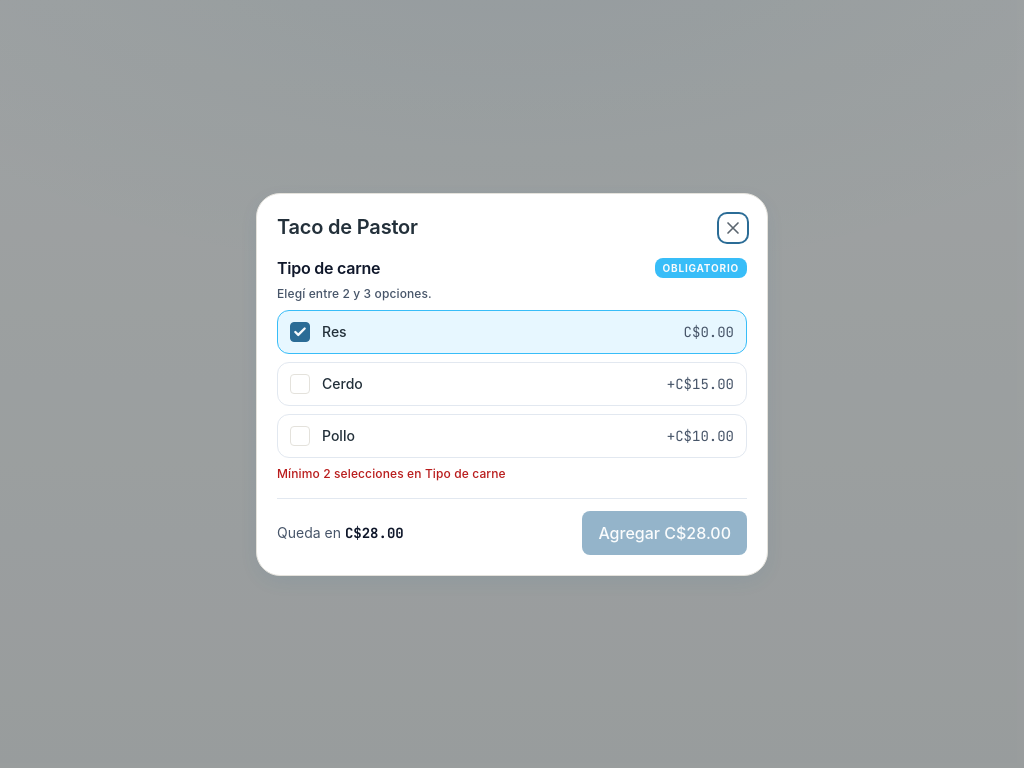
PosModifierDialog › con un mínimo sin cumplir muestra el error del dominio y no deja agregar
This screenshot has width=1024, height=768.
Click the checkbox labelled "Cerdo" at (300, 384), box x1=290 y1=374 x2=310 y2=394
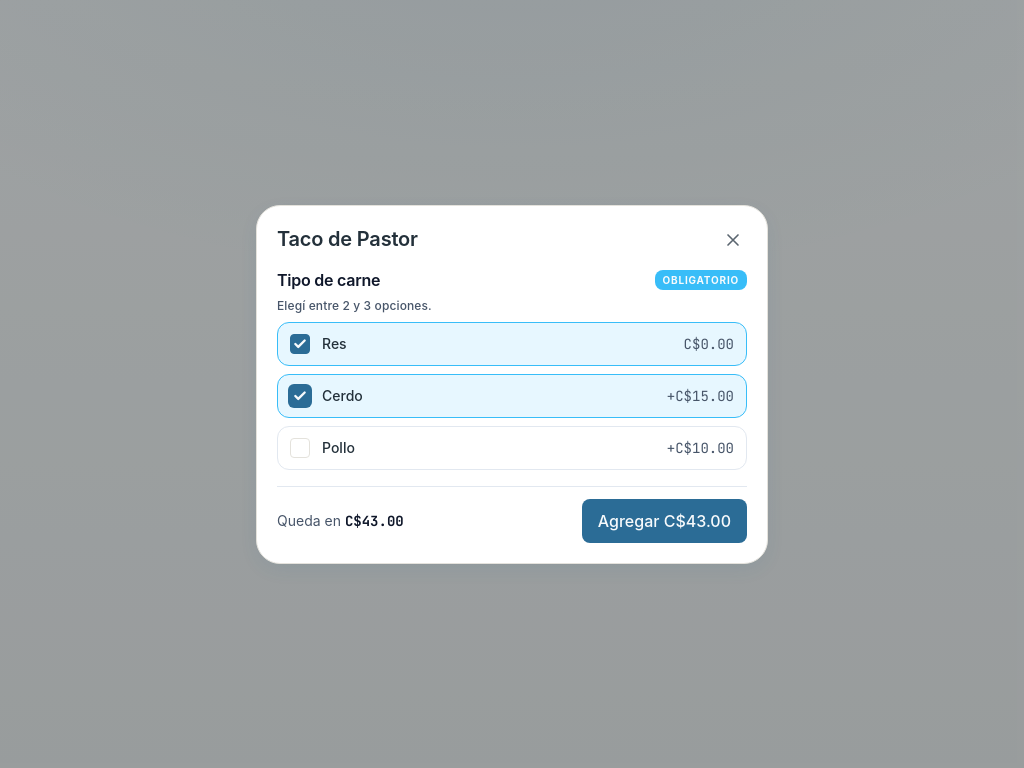
Click the checkbox labelled "Res" at (300, 344), box x1=290 y1=334 x2=310 y2=354
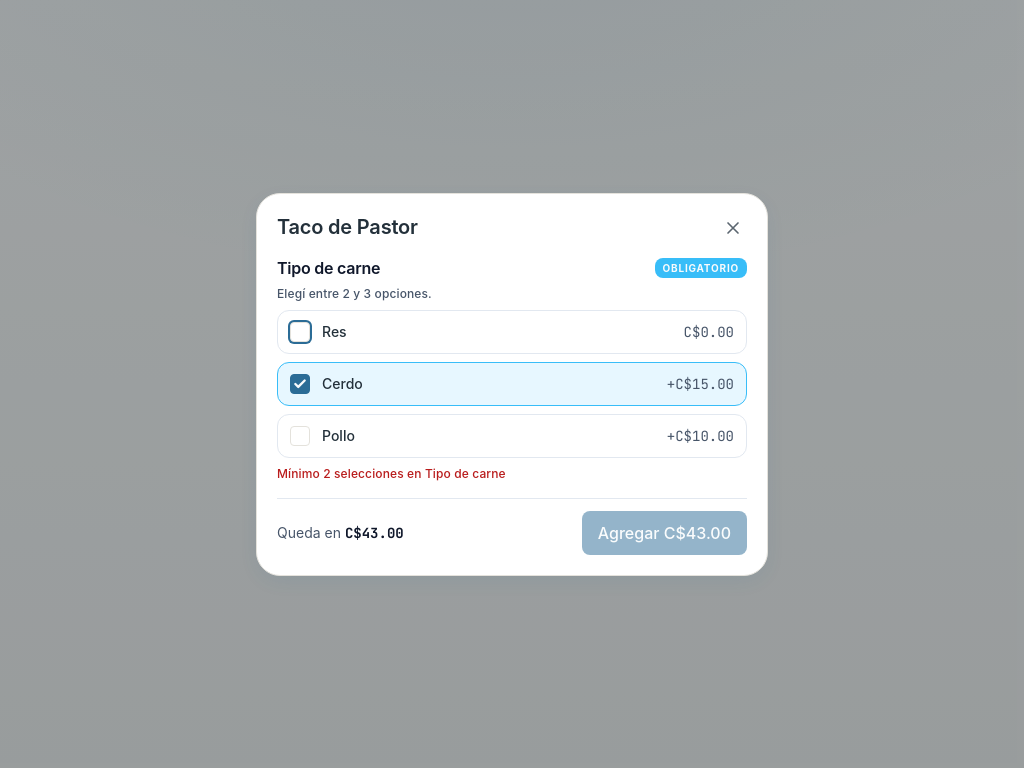
Check: the text "Mínimo 2 selecciones en Tipo de carne" is shown, box x1=277 y1=466 x2=506 y2=480
